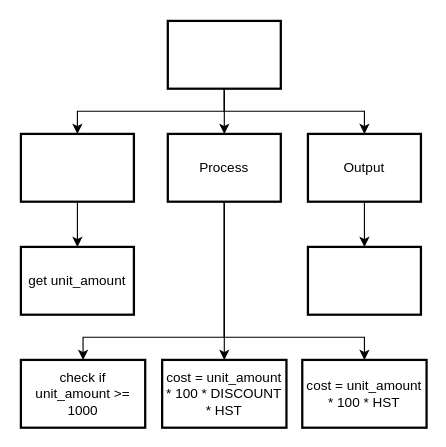
This 446x447 diagram has some shape labels left out. Each missing label, with the centre of its shape:
Input: point (76, 167)
show Your price will be $cost.: point (363, 280)
units_discount: point (223, 54)
